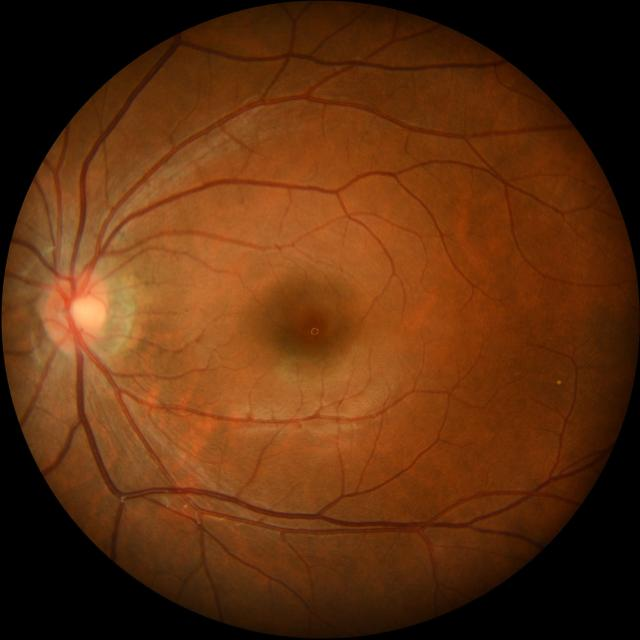OC: (64, 296, 100, 331)
OD: (44, 270, 106, 350)
